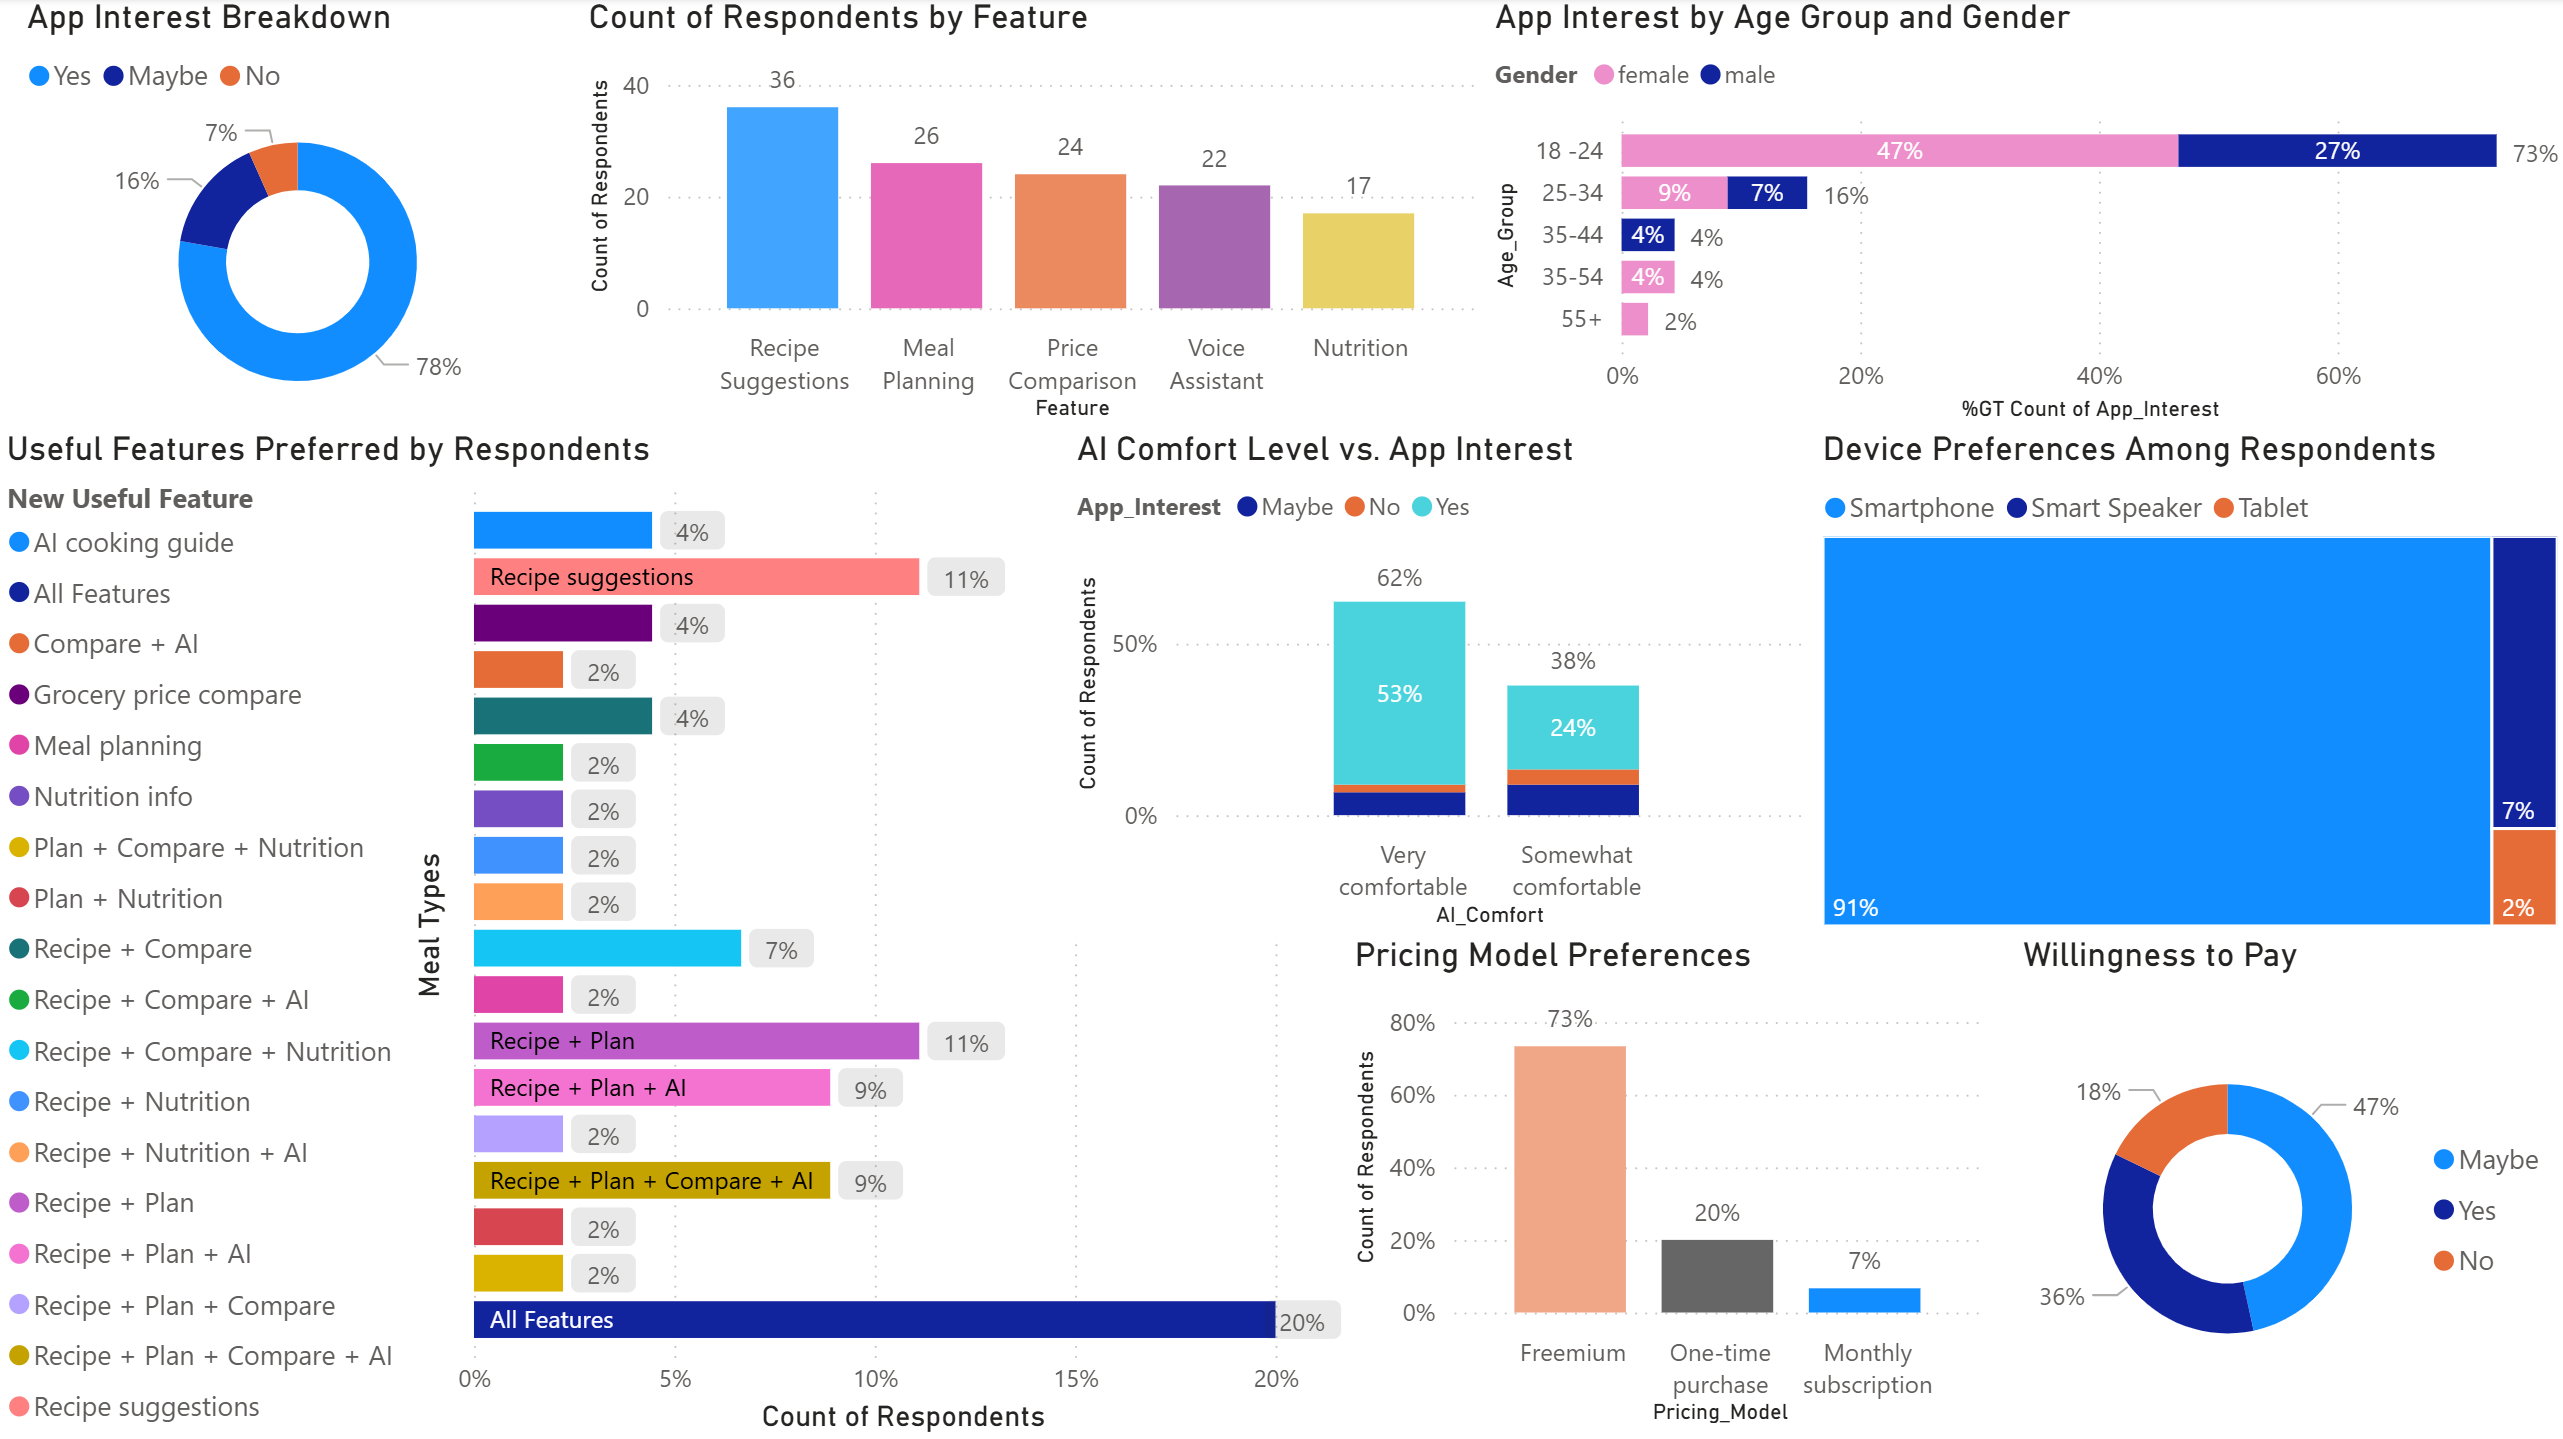

What the dashboard file says about the page in this screenshot:
{"tool":"powerbi","page":{"name":"AI Tool Interest & Features ","canvas":[1280,720],"ordinal":1},"visuals":[{"type":"donutChart","title":"App Interest Breakdown","fields":{"Category":["Form_Responses1.App_Interest"],"Y":["CountNonNull(Form_Responses1.Respondents)"]},"box":[10,0,279.5,215],"z":0},{"type":"barChart","title":"Useful Features Preferred by Respondents","fields":{"Category":["Form_Responses1.Feature_MealPlanning","Form_Responses1.Feature_Nutrition","Form_Responses1.Feature_PriceComparison","Form_Responses1.Feature_RecipeSuggestions","Form_Responses1.Feature_VoiceAssistant"],"Y":["Divide(CountNonNull(Form_Responses1.Respondents), ScopedEval(CountNonNull(Form_Responses1.Respondents), []))"],"Series":["Form_Responses1.New Useful Feature"]},"box":[0,215,682.3,504.5],"z":1000},{"type":"columnChart","fields":{"Category":["FeatureMetrics.Feature"],"Y":["FeatureMetrics.SelectedFeatureTrueCount"]},"box":[289.5,0,451.5,215],"z":2000},{"type":"barChart","title":"App Interest by Age Group and Gender","fields":{"Category":["Form_Responses1.Age_Group"],"Y":["Divide(CountNonNull(Form_Responses1.App_Interest), ScopedEval(CountNonNull(Form_Responses1.App_Interest), []))"],"Series":["Form_Responses1.Gender"]},"box":[740.7,0,552,215.5],"z":3000},{"type":"donutChart","title":"Willingness to Pay","fields":{"Category":["Form_Responses1.Pay_Willingness"],"Y":["CountNonNull(Form_Responses1.Respondents)"]},"box":[1003.4,467.3,276.6,253.7],"z":4000},{"type":"clusteredColumnChart","title":"Pricing Model Preferences","fields":{"Category":["Form_Responses1.Pricing_Model"],"Y":["CountNonNull(Form_Responses1.Respondents)"]},"box":[670.8,467.3,323.9,248],"z":5000},{"type":"treemap","title":"Device Preferences Among Respondents","fields":{"Group":["Form_Responses1.Preferred_Device"],"Values":["Sum(Form_Responses1.Respondents)"]},"box":[904.5,215,375.5,252.3],"z":6000},{"type":"columnChart","title":"AI Comfort Level vs. App Interest","fields":{"Category":["Form_Responses1.AI_Comfort"],"Y":["Divide(CountNonNull(Form_Responses1.Respondents), ScopedEval(CountNonNull(Form_Responses1.Respondents), []))"],"Series":["Form_Responses1.App_Interest"]},"box":[533.2,215,371.2,252.3],"z":7000}]}

Visuals, with their boxes in screenshot pixels (x1, y1, x2, y2), scaled from the page's 1280x720 canvas onto the 2563x1439 screenshot:
"App Interest Breakdown" donutChart: 20, 0, 580, 430
"Useful Features Preferred by Respondents" barChart: 0, 430, 1366, 1438
columnChart - FeatureMetrics.Feature x FeatureMetrics.SelectedFeatureTrueCount: 580, 0, 1484, 430
"App Interest by Age Group and Gender" barChart: 1483, 0, 2562, 431
"Willingness to Pay" donutChart: 2009, 934, 2562, 1438
"Pricing Model Preferences" clusteredColumnChart: 1343, 934, 1992, 1430
"Device Preferences Among Respondents" treemap: 1811, 430, 2562, 934
"AI Comfort Level vs. App Interest" columnChart: 1068, 430, 1811, 934
